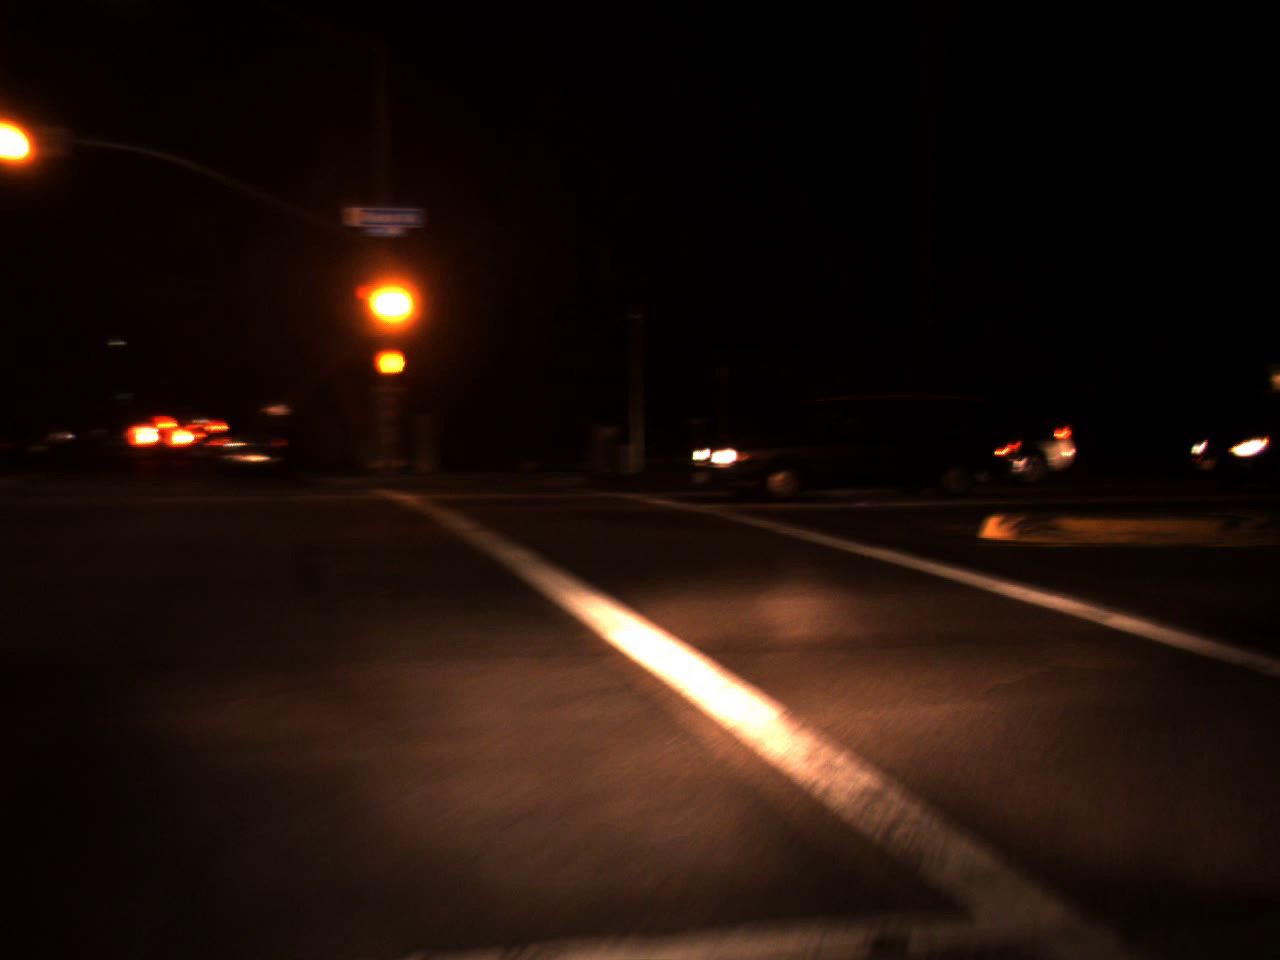warning: (369, 274, 412, 331), (0, 114, 30, 169)
